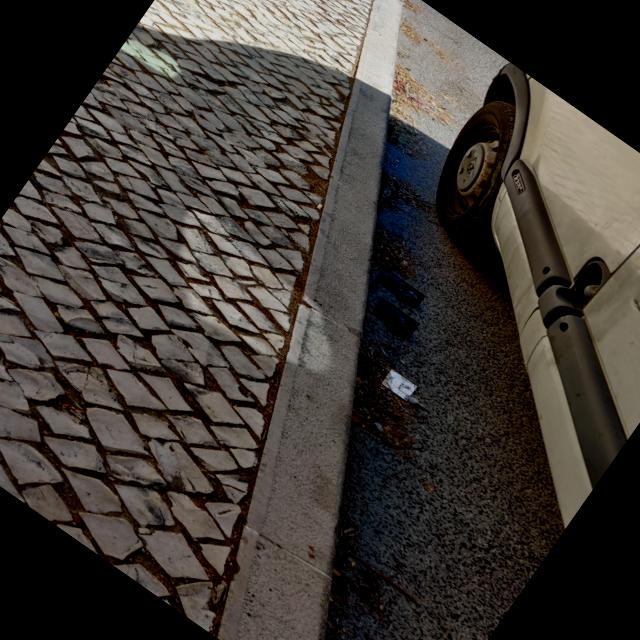Cigarette: (385, 411, 398, 423), (377, 413, 385, 421), (381, 425, 390, 432), (386, 255, 395, 261), (435, 52, 443, 58), (316, 204, 322, 209)
Other Carton: (377, 272, 418, 305), (376, 302, 411, 335)
Other plastic: (384, 370, 413, 399)
